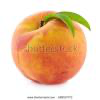Peach leaf: (43, 12, 75, 39), (58, 9, 92, 31)
